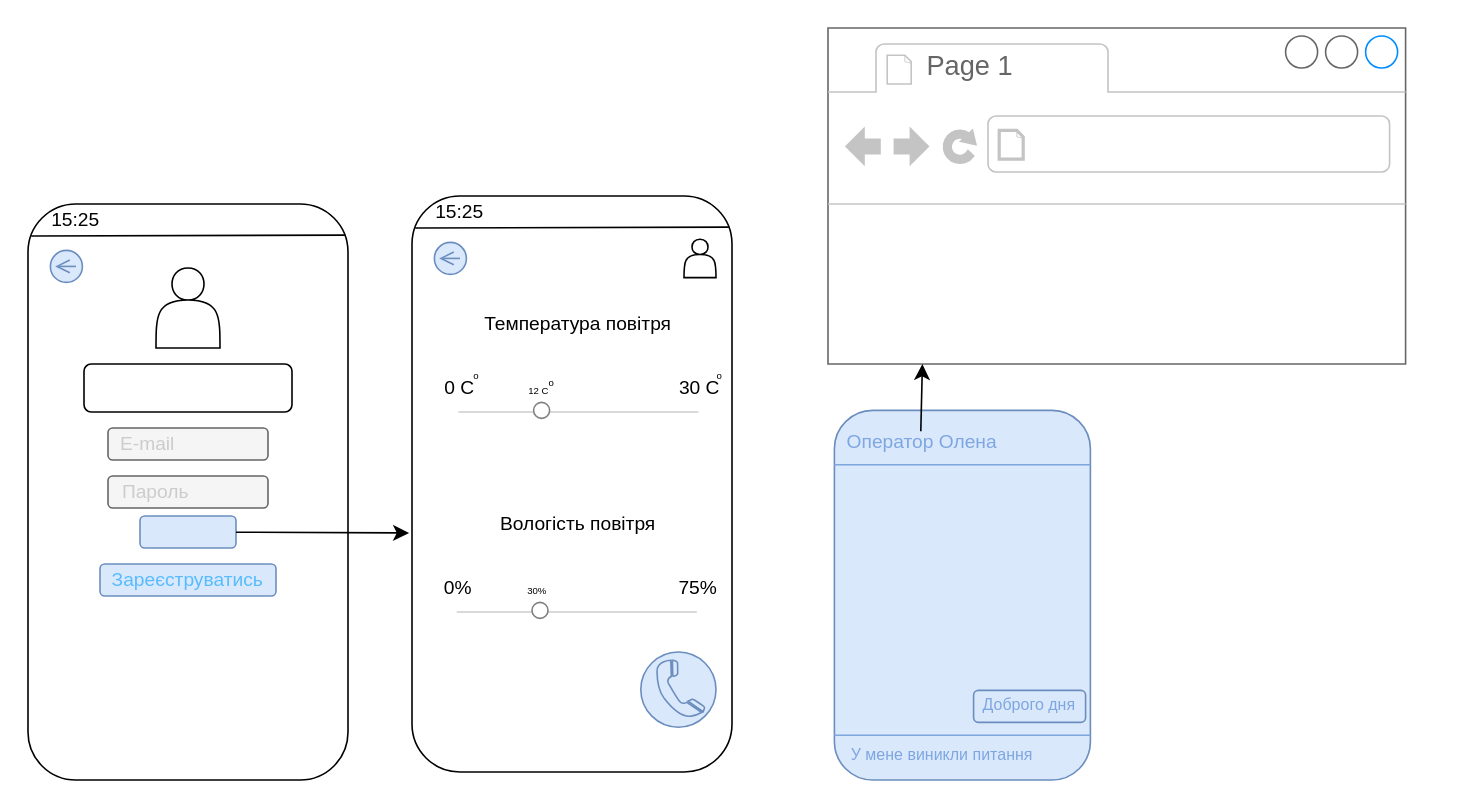
The diagram is 1464 pixels wide and 808 high, and some of its shapes have lost their labels. The box of each missing label's shape, as (x1, y1, x2, y2) in pixels:
https://www.google.com: (1034, 122, 1436, 166)
Авторизація: (82, 362, 292, 412)
Увійти: (138, 514, 236, 548)
